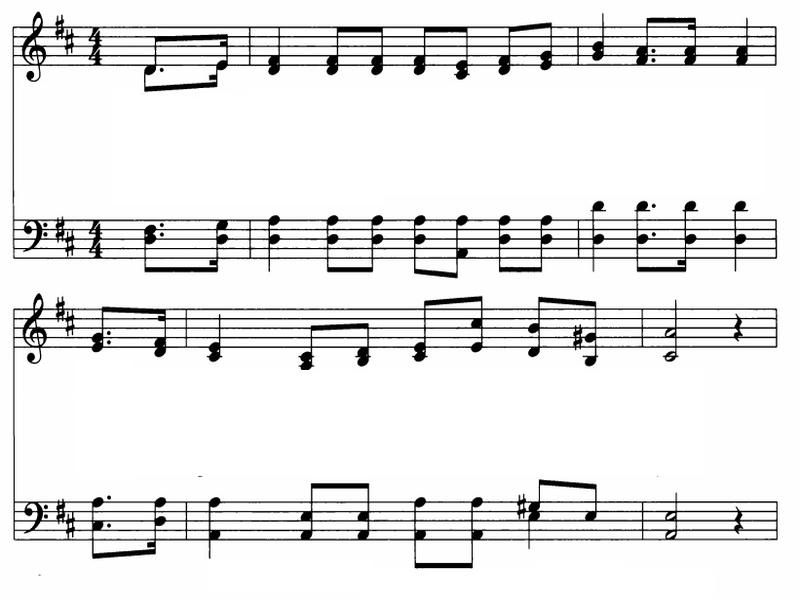B: (656, 298, 693, 365), (660, 488, 686, 549), (660, 292, 683, 338), (667, 487, 680, 521), (665, 341, 679, 370), (664, 525, 681, 543)
C: (453, 488, 488, 574), (440, 204, 477, 282), (407, 471, 434, 573), (446, 1, 479, 84), (299, 445, 325, 547), (346, 469, 377, 554), (518, 290, 550, 364), (319, 192, 347, 276), (406, 296, 435, 372), (531, 204, 561, 276), (489, 206, 518, 280), (361, 10, 393, 77), (362, 199, 388, 276), (582, 295, 607, 373), (492, 18, 523, 80), (293, 316, 323, 379), (403, 204, 426, 276), (407, 10, 432, 74), (465, 286, 488, 354), (320, 22, 347, 74), (583, 477, 608, 529), (87, 294, 106, 361), (136, 219, 156, 277), (539, 14, 556, 79), (90, 493, 103, 572), (142, 17, 160, 74), (637, 6, 653, 68), (529, 469, 552, 512), (360, 313, 375, 372), (139, 62, 156, 98), (636, 231, 648, 275)
CF: (19, 496, 49, 537), (22, 214, 48, 259)
CS: (14, 285, 49, 373), (21, 6, 47, 86)
N: (728, 195, 761, 277), (202, 491, 231, 564), (266, 19, 292, 79), (201, 307, 227, 366), (591, 197, 607, 288), (733, 6, 755, 70), (590, 1, 609, 62), (263, 210, 277, 274), (730, 230, 751, 272), (730, 198, 753, 226), (530, 511, 544, 548), (637, 197, 650, 226)
SC: (676, 186, 708, 274), (197, 213, 237, 278), (144, 485, 174, 561), (144, 301, 177, 365), (208, 233, 237, 275), (678, 233, 703, 277), (148, 304, 171, 346), (214, 25, 236, 66), (203, 61, 230, 93)
SN: (731, 308, 755, 343), (730, 499, 746, 536)
SOS: (513, 492, 528, 520), (53, 493, 64, 525), (50, 217, 64, 242), (65, 517, 79, 542), (570, 325, 584, 349), (52, 15, 66, 38), (65, 29, 75, 61), (51, 298, 64, 319), (67, 312, 75, 339), (65, 231, 73, 254)
